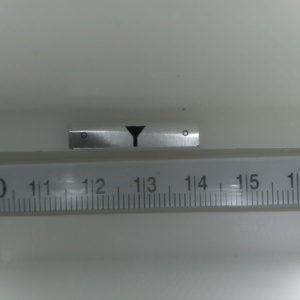0: (0, 178, 6, 199)
1: (28, 181, 36, 197), (81, 178, 88, 194), (288, 172, 294, 189), (134, 176, 140, 192), (184, 176, 190, 191), (43, 180, 49, 195), (234, 175, 240, 189)
2: (95, 178, 105, 194)
3: (146, 176, 156, 192)
4: (197, 176, 207, 190)
5: (248, 174, 258, 189)
finger: (123, 126, 145, 149)
